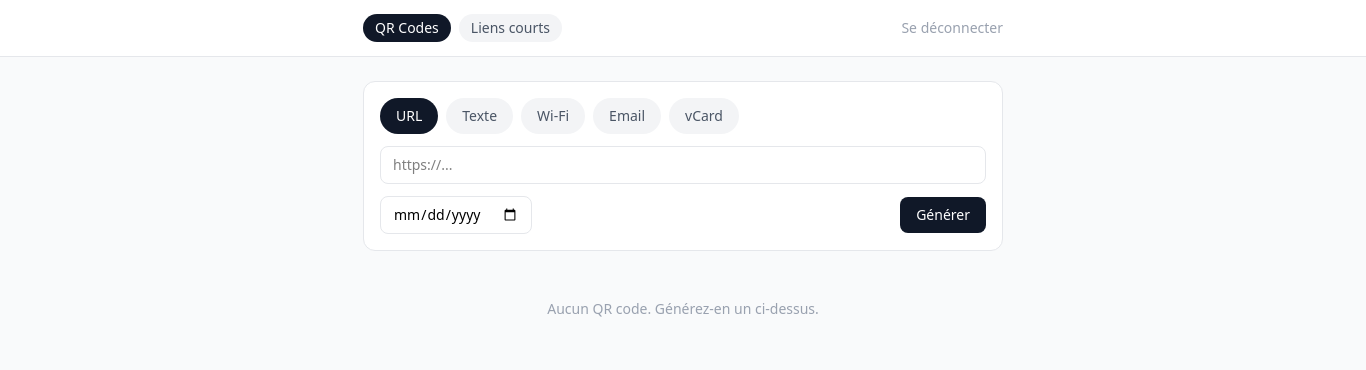
Test: LinkCard expiry UI (link-expiration) › LinkCard should show "Expiré" badge when expiresAt is in the past
Click the button with test id "tab-links": coordinates (510, 28) x1=459 y1=14 x2=562 y2=42
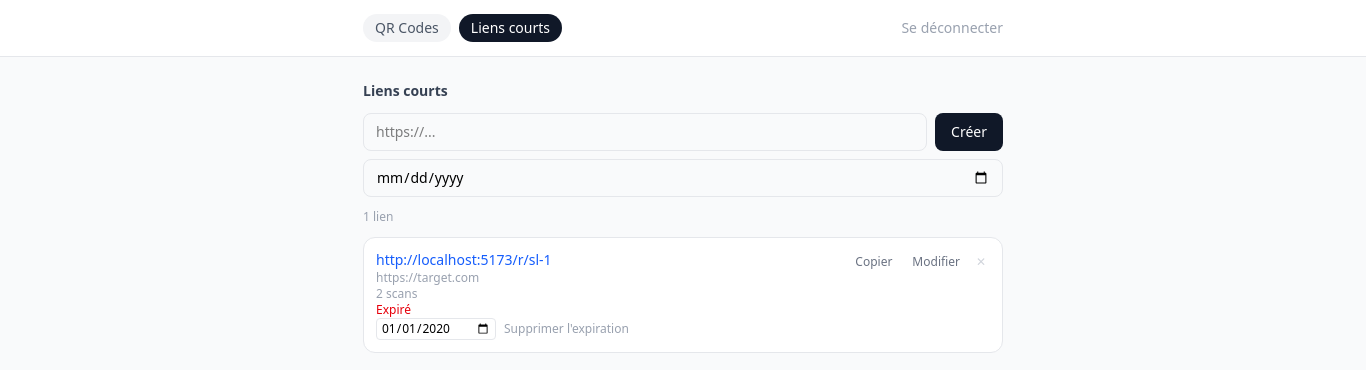
Now the text "Expiré" is shown, box x1=376 y1=301 x2=411 y2=318
